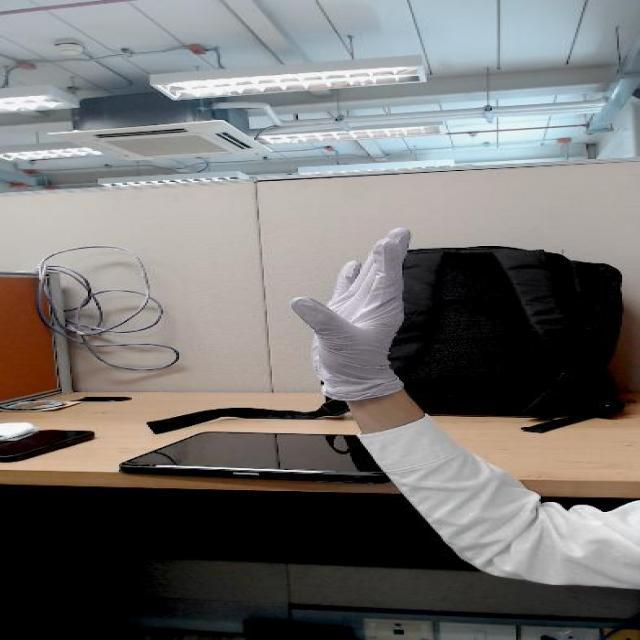with_gloves: (278, 218, 436, 354)
